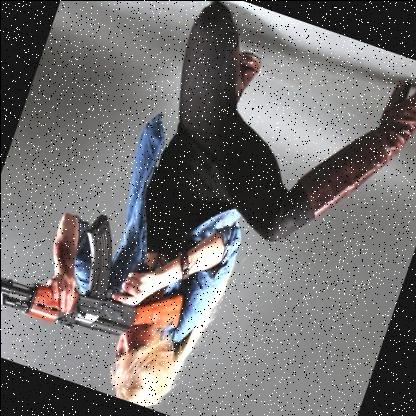rifle: (0, 178, 204, 368)
